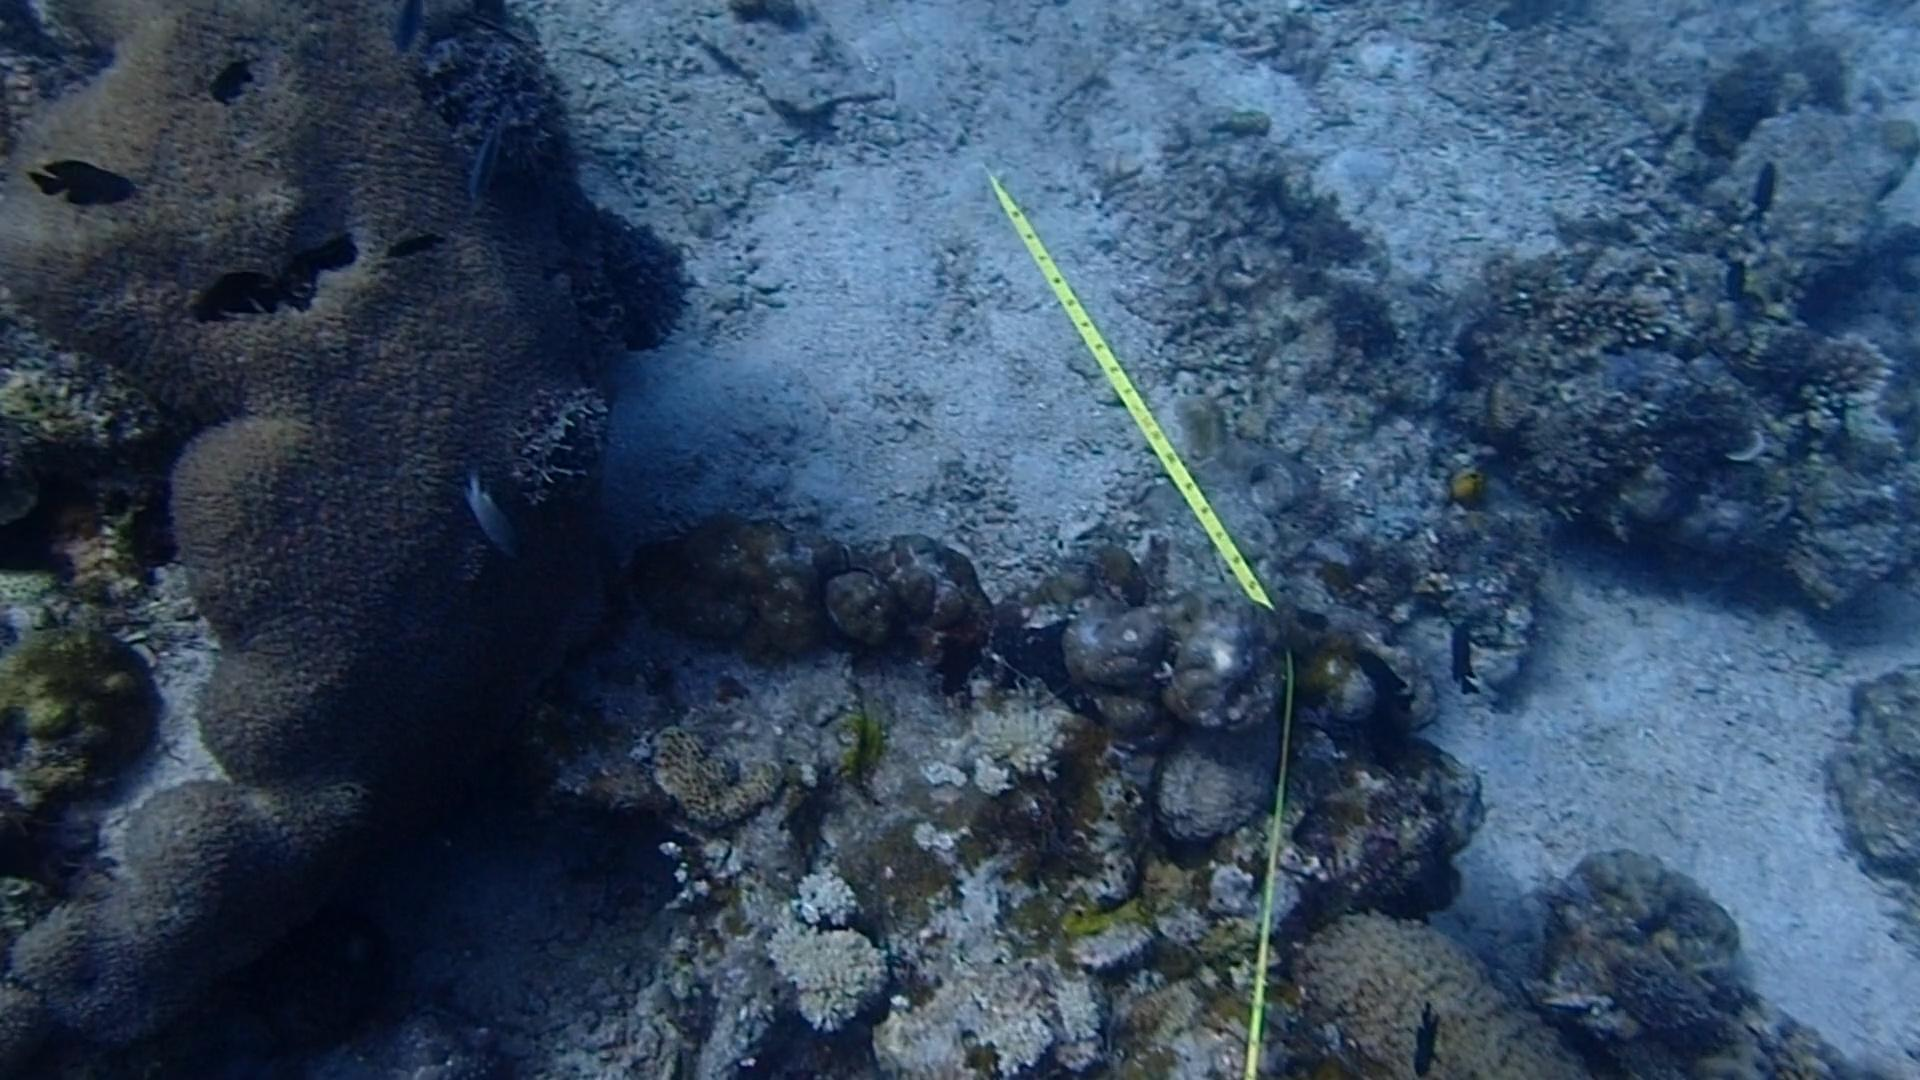Dark Fish: (181, 264, 306, 340), (1530, 990, 1631, 1079), (1348, 634, 1431, 733), (12, 150, 140, 211), (1406, 1000, 1462, 1071), (196, 51, 265, 105), (1441, 621, 1484, 699), (381, 220, 443, 270), (1747, 150, 1787, 225), (1712, 245, 1753, 303)
Light Fish: (444, 460, 527, 566), (444, 94, 521, 198)
